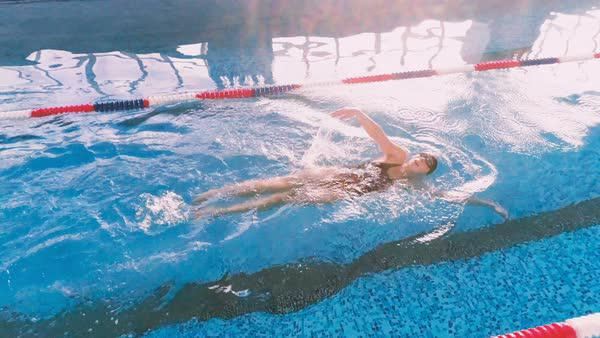human: (187, 106, 510, 219)
